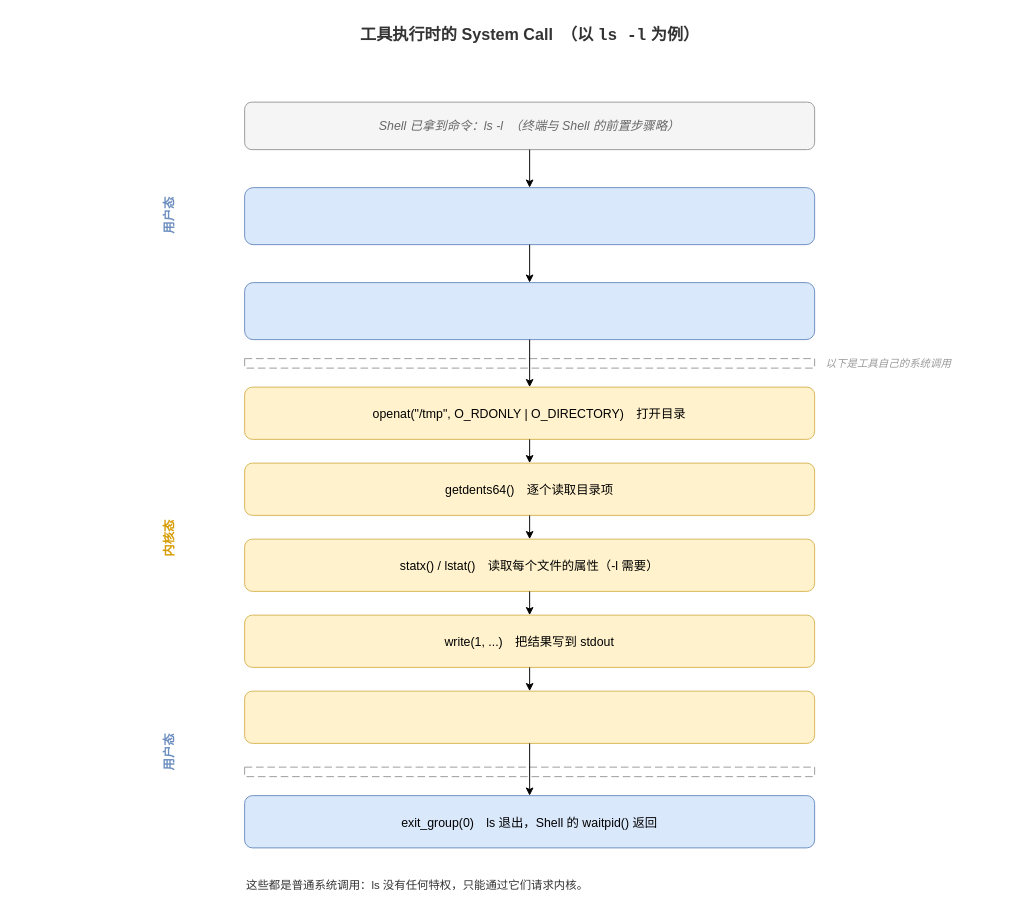
Image size: 1011x916. Some labels were removed from this diagram. The shapes that lost their labels are listed below. From the top down, each one's centre as x and y in pixels, then its label:
point (529, 216): Shell：fork() + execve("/usr/bin/ls")
point (529, 311): ls 进程开始运行，进入 main()
point (529, 716): close() 关闭目录 fd
